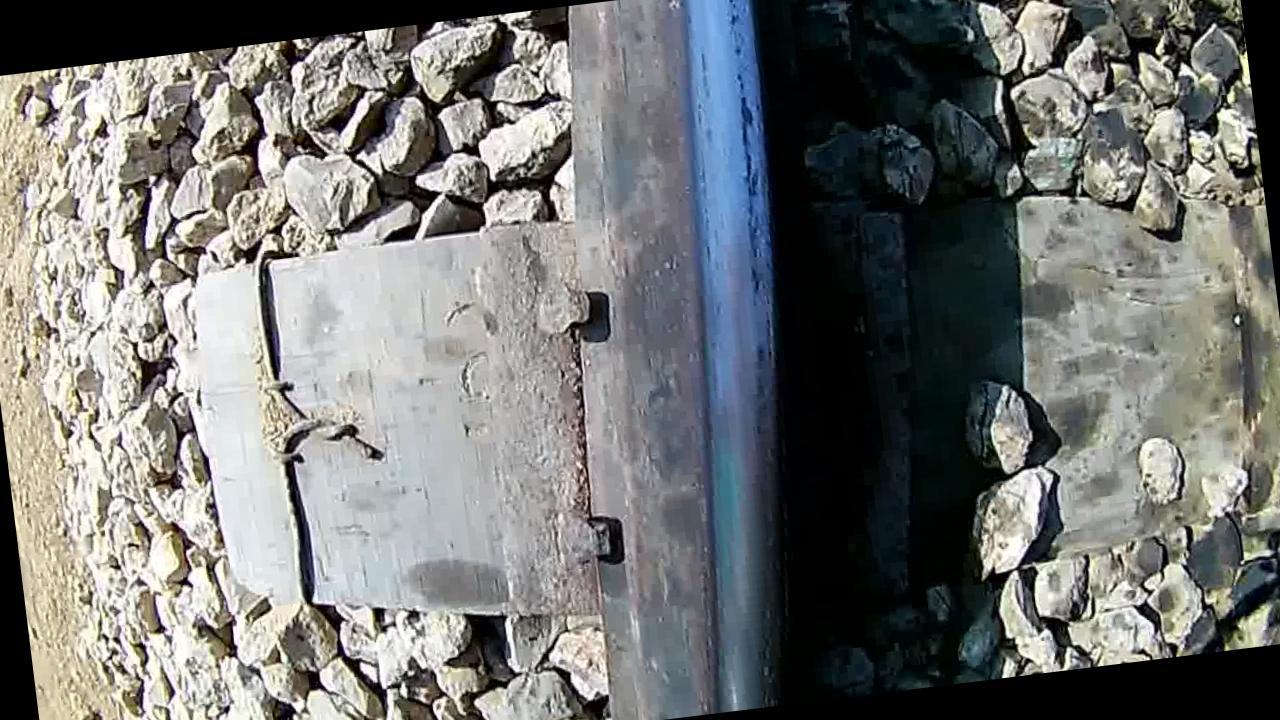crack: (570, 0, 839, 720)
